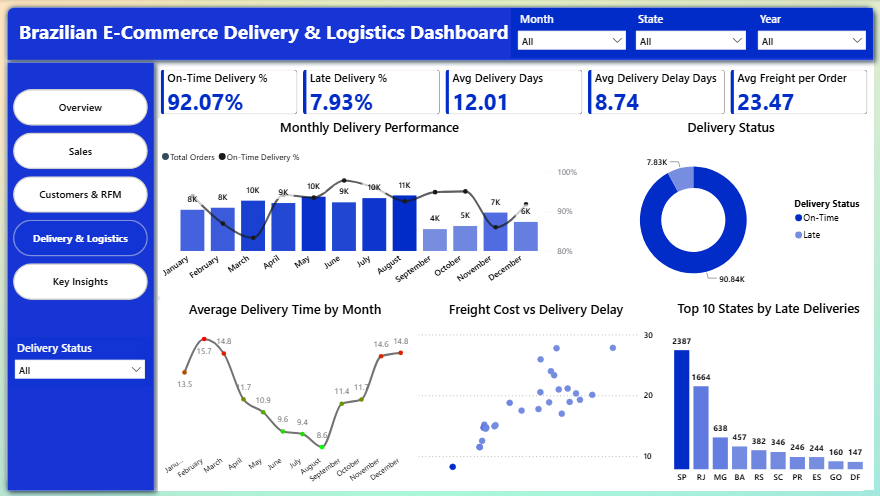

Layout of this report page (visuals, bound fields, positions):
{"tool":"powerbi","page":{"name":"Delivery & Logistics","canvas":[1280,720],"ordinal":3},"visuals":[{"type":"shape","box":[12.5,10.9,1255.1,700],"z":0},{"type":"shape","box":[6.2,3.1,1270.6,95.1],"z":1000},{"type":"shape","box":[6.2,82.3,230.7,637.7],"z":2000},{"type":"pageNavigator","box":[23.1,130.1,195.2,305.1],"z":3000},{"type":"slicer","fields":{"Values":["DimDate.MonthName"]},"box":[743.1,13,176.4,72.3],"z":4000},{"type":"lineClusteredColumnComboChart","title":"Monthly Delivery Performance","fields":{"Y":["_Measure.Total Orders"],"Category":["DimDate.MonthName"],"Y2":["_Measure.On-Time Delivery %"]},"box":[232.6,171.6,611.1,258.2],"z":4500},{"type":"slicer","fields":{"Values":["MasterTable.customer_state"]},"box":[913.7,13,179.3,72.3],"z":5000},{"type":"slicer","fields":{"Values":["DimDate.Year"]},"box":[1090.1,13,176.4,72.3],"z":6000},{"type":"donutChart","title":"Delivery Status","fields":{"Category":["MasterTable.Delivery Status"],"Y":["Count(MasterTable.order_id)"]},"box":[855.9,172,410.6,258.8],"z":8000},{"type":"cardVisual","fields":{"Data":["_Measure.On-Time Delivery %","_Measure.Late Delivery %","_Measure.Avg Delivery Days","_Measure.Avg Delivery Delay Days","_Measure.Avg Freight per Order"]},"box":[230.9,96.4,1034.5,76],"z":9000},{"type":"scatterChart","title":"Freight Cost vs Delivery Delay","fields":{"Category":["MasterTable.customer_state"],"X":["_Measure.Avg Freight per Order"],"Y":["_Measure.Avg Delivery Days"]},"box":[604.7,434.7,349.7,275.9],"z":10000},{"type":"columnChart","title":"Top 10 States by Late Deliveries","fields":{"Category":["MasterTable.customer_state"],"Y":["_Measure.Late Deliveries"]},"box":[962.9,434,305.4,276.2],"z":11000},{"type":"lineChart","title":"Average Delivery Time by Month","fields":{"Y":["_Measure.Avg Delivery Days"],"Category":["DimDate.MonthName"]},"box":[232.6,434.7,367.3,275.9],"z":12000},{"type":"slicer","fields":{"Values":["MasterTable.Delivery Status"]},"box":[15.9,488.7,208.2,72.3],"z":15000}]}

Visuals, with their boxes in screenshot pixels (x1, y1, x2, y2), scaled from the page's 1280x720 canvas onto the 880x496 screenshot:
shape: rect(9, 8, 871, 490)
shape: rect(4, 2, 878, 68)
shape: rect(4, 57, 163, 495)
pageNavigator: rect(16, 90, 150, 300)
slicer - DimDate.MonthName: rect(511, 9, 632, 59)
"Monthly Delivery Performance" lineClusteredColumnComboChart: rect(160, 118, 580, 296)
slicer - MasterTable.customer_state: rect(628, 9, 751, 59)
slicer - DimDate.Year: rect(749, 9, 871, 59)
"Delivery Status" donutChart: rect(588, 118, 871, 297)
cardVisual - _Measure.On-Time Delivery % x _Measure.Late Delivery %: rect(159, 66, 870, 119)
"Freight Cost vs Delivery Delay" scatterChart: rect(416, 299, 656, 490)
"Top 10 States by Late Deliveries" columnChart: rect(662, 299, 872, 489)
"Average Delivery Time by Month" lineChart: rect(160, 299, 412, 490)
slicer - MasterTable.Delivery Status: rect(11, 337, 154, 386)
